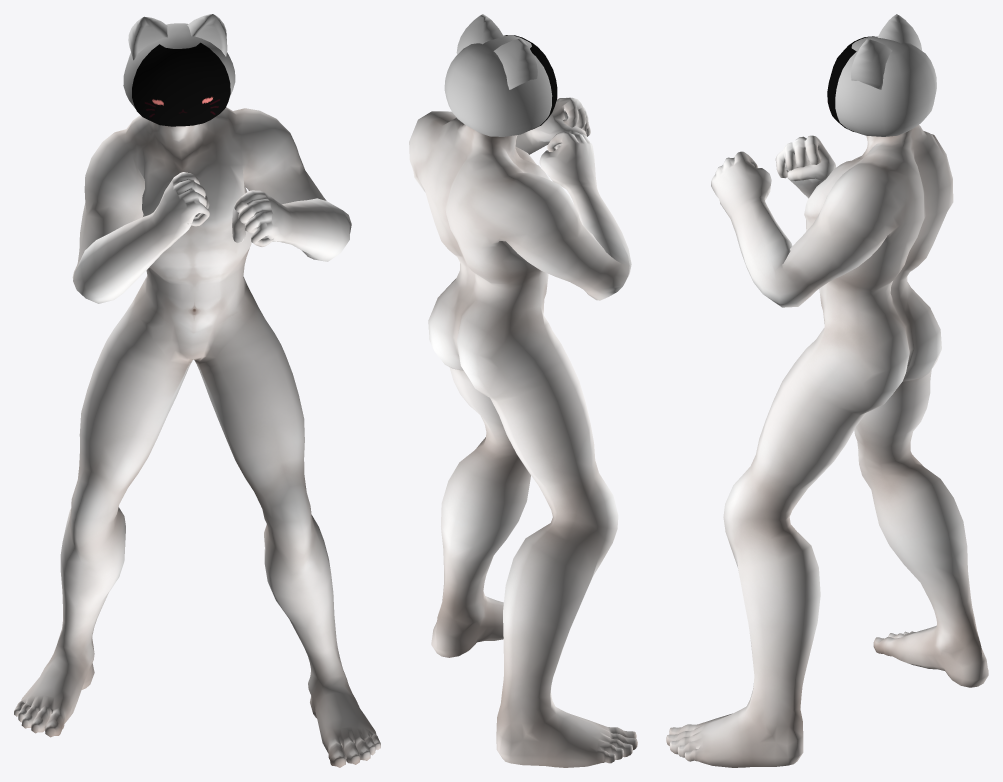
The picture shows the model from 3 angles, left to right: view 1: azimuth 30°, elevation 25°; view 2: azimuth 150°, elevation 25°; view 3: azimuth 270°, elevation 25°; orthographic projection.
Parts seen in each view (by area): view 1: Muscle_Body, ______?001, Cat_Head; view 2: Muscle_Body, Cat_Head, ______?001; view 3: Muscle_Body, Cat_Head, ______?001.
Part boxes in pixels (bbox=[...]): Muscle_Body: bbox=[14, 107, 380, 767]; ______?001: bbox=[132, 42, 230, 126]; Cat_Head: bbox=[123, 14, 235, 108]; Muscle_Body: bbox=[409, 97, 637, 767]; Cat_Head: bbox=[444, 14, 552, 136]; ______?001: bbox=[505, 35, 557, 129]; Muscle_Body: bbox=[666, 125, 988, 767]; Cat_Head: bbox=[835, 14, 936, 136]; ______?001: bbox=[827, 36, 874, 131].
Size of the model in its own units: 11.27 by 28.21 by 12.
